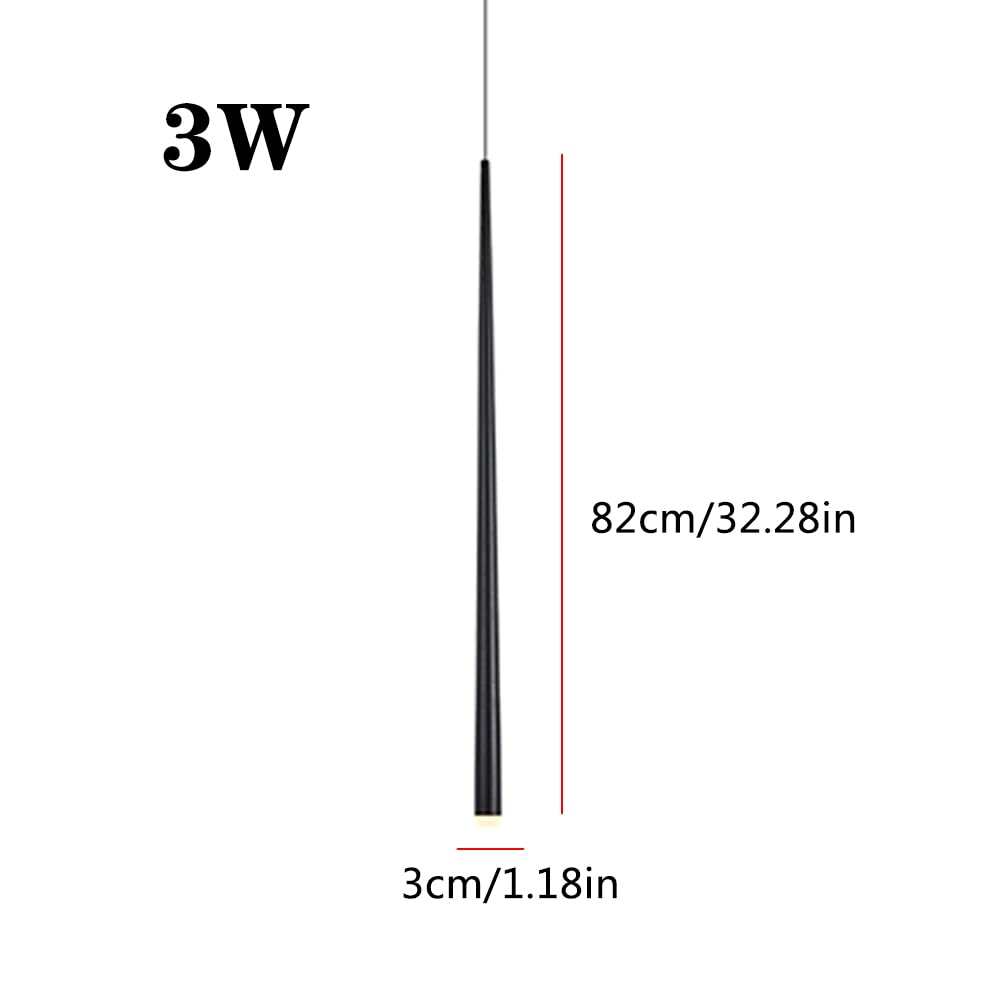3W: (164, 103, 309, 171)
3cm/1.18in: (403, 848, 617, 903)
82cm/32.28in: (592, 501, 854, 538)
